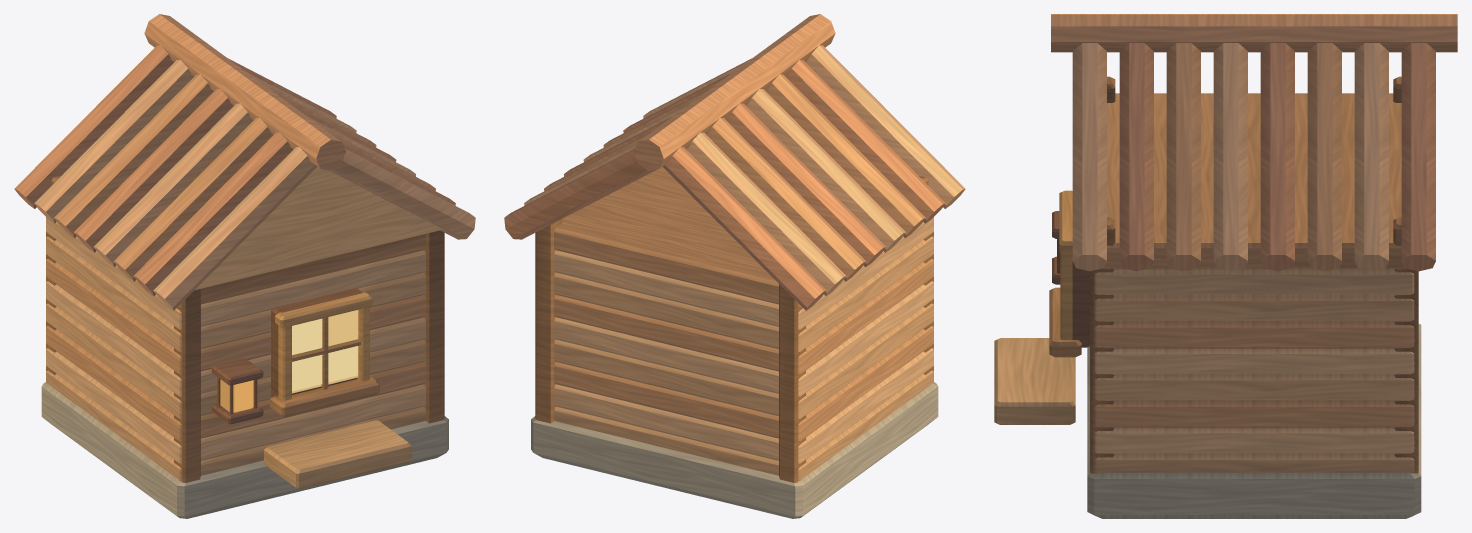
Rendered from cabin_annex_1.glb.
The picture shows the model from 3 angles, left to right: view 1: azimuth 30°, elevation 25°; view 2: azimuth 150°, elevation 25°; view 3: azimuth 270°, elevation 25°; orthographic projection. The views are drawn at different scales.
Visible parts, largest first — view 1: Hofanbau · Außenansicht.001; view 2: Hofanbau · Außenansicht.001; view 3: Hofanbau · Außenansicht.001.
Boxes of the visible parts, x1,y1,x2,y2 form: Hofanbau · Außenansicht.001: (14, 14, 475, 518); Hofanbau · Außenansicht.001: (504, 14, 965, 518); Hofanbau · Außenansicht.001: (994, 14, 1457, 518).
Size of the model in its own units: 3.08 by 3.38 by 3.3.
2 materials, 1 textured.
